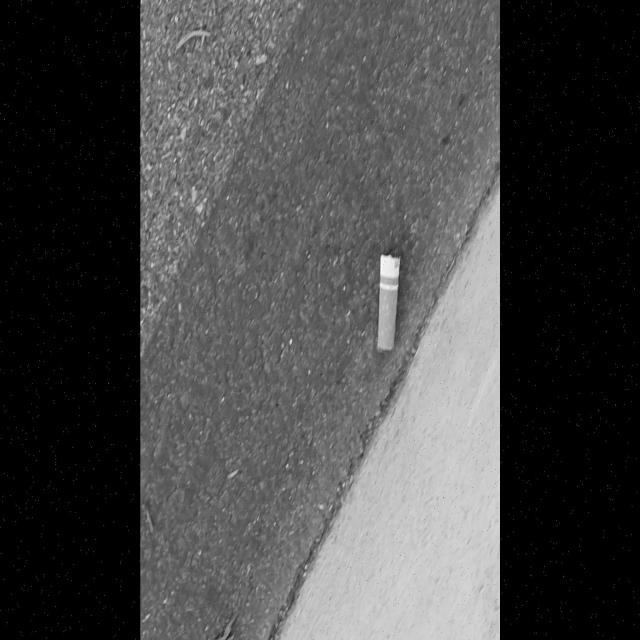other waste: (375, 253, 401, 355)
